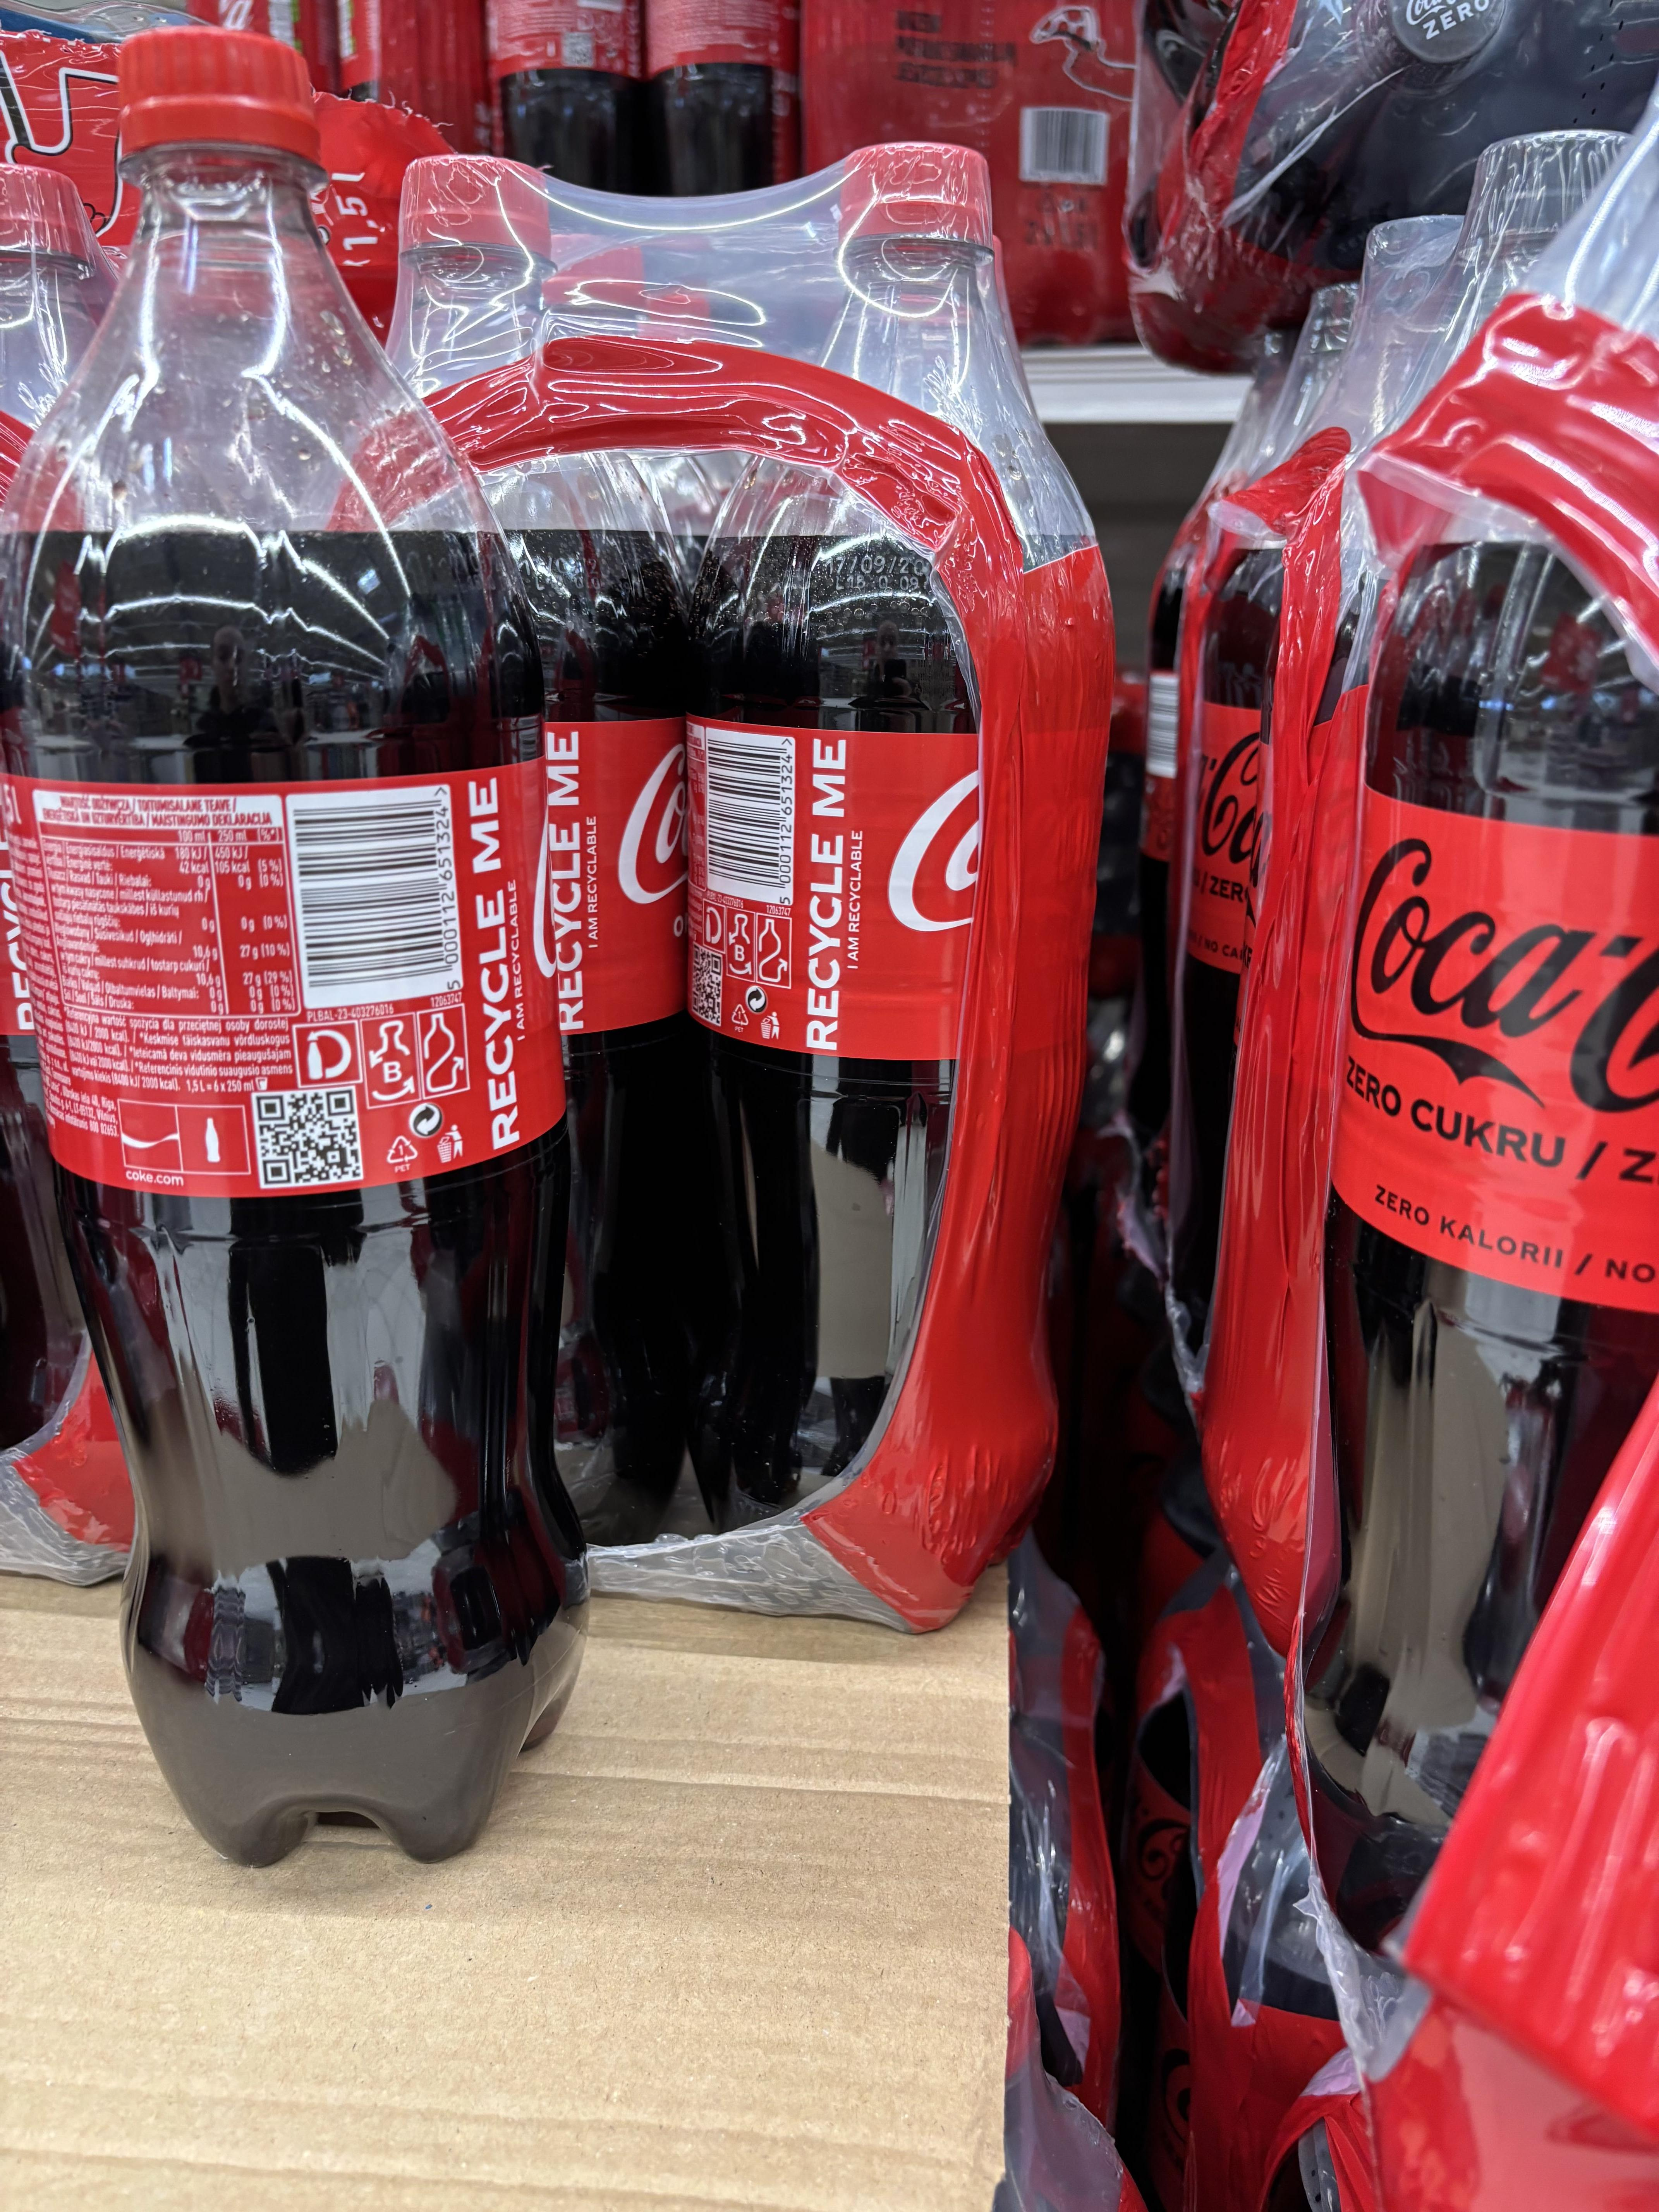Coca Cola: (31, 219, 629, 1867)
